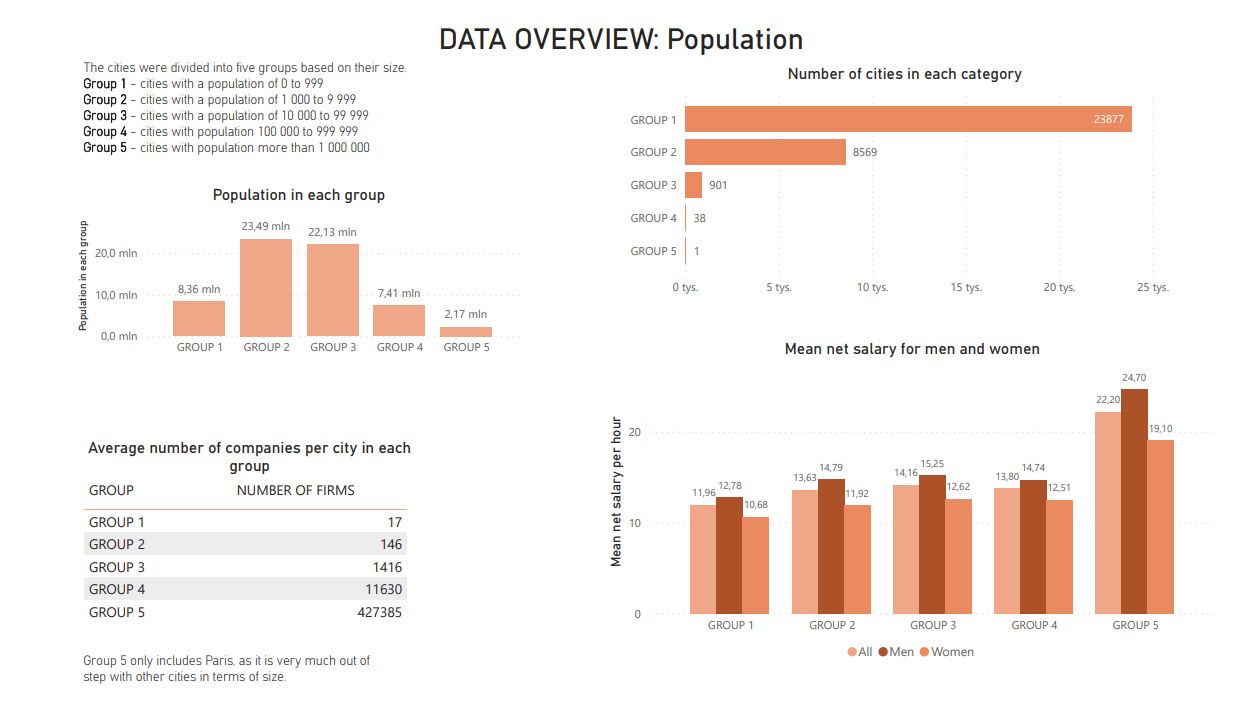

What the dashboard file says about the page in this screenshot:
{"tool":"powerbi","page":{"name":"Page 1","canvas":[1280,720],"ordinal":1},"visuals":[{"type":"clusteredColumnChart","title":"Population in each group","fields":{"Y":["Sum(CITIES IN GROUPS.Sum)"],"Category":["CITIES IN GROUPS.Group"]},"box":[55,173.6,481.6,191.9],"z":0},{"type":"tableEx","title":"Average number of companies per city in each group","fields":{"Values":["Tabela.GROUP","Sum(Tabela.NUMBER OF FIRMS)"]},"box":[61.3,443.5,359.9,223.7],"z":2000},{"type":"clusteredColumnChart","title":"Mean net salary for men and women ","fields":{"Y":["Sum(mean net in different jobs and ages for women and men.MEAN NET)","Sum(mean net in different jobs and ages for women and men.MEN)","Sum(mean net in different jobs and ages for women and men.WOMEN)"],"Category":["mean net in different jobs and ages for women and men.GROUP"]},"box":[621,338.6,658.9,352.1],"z":3000},{"type":"textbox","title":"DATA OVERVIEW: Population","box":[0,0,1280,36],"z":4000},{"type":"textbox","box":[61.1,35.4,434,138.1],"z":5000},{"type":"textbox","box":[61.1,667.4,319,46.5],"z":6000},{"type":"clusteredBarChart","title":"Number of cities in each category","fields":{"Category":["CITIES IN GROUPS.Group"],"Y":["Sum(CITIES IN GROUPS.Size)"]},"box":[640.5,45.2,603.9,256.7],"z":7000}]}

Visuals, with their boxes in screenshot pixels (x1, y1, x2, y2), scaled from the page's 1280x720 canvas onto the 1242x715 screenshot:
"Population in each group" clusteredColumnChart: {"left": 53, "top": 172, "right": 521, "bottom": 363}
"Average number of companies per city in each group" tableEx: {"left": 59, "top": 440, "right": 409, "bottom": 663}
"Mean net salary for men and women " clusteredColumnChart: {"left": 603, "top": 336, "right": 1241, "bottom": 686}
"DATA OVERVIEW: Population" textbox: {"left": 0, "top": 0, "right": 1241, "bottom": 36}
textbox: {"left": 59, "top": 35, "right": 480, "bottom": 172}
textbox: {"left": 59, "top": 663, "right": 369, "bottom": 709}
"Number of cities in each category" clusteredBarChart: {"left": 621, "top": 45, "right": 1207, "bottom": 300}
